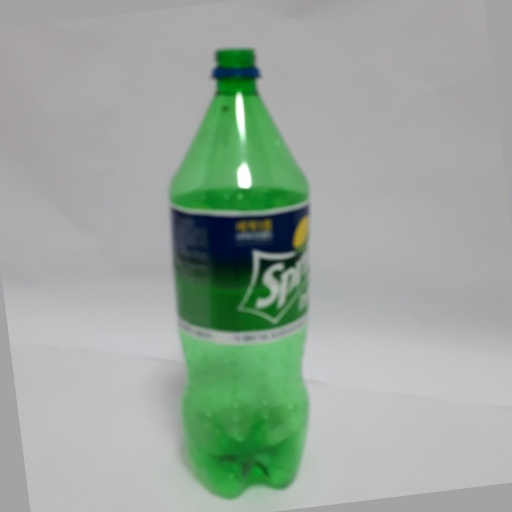Plastic_0: (164, 44, 317, 499)
